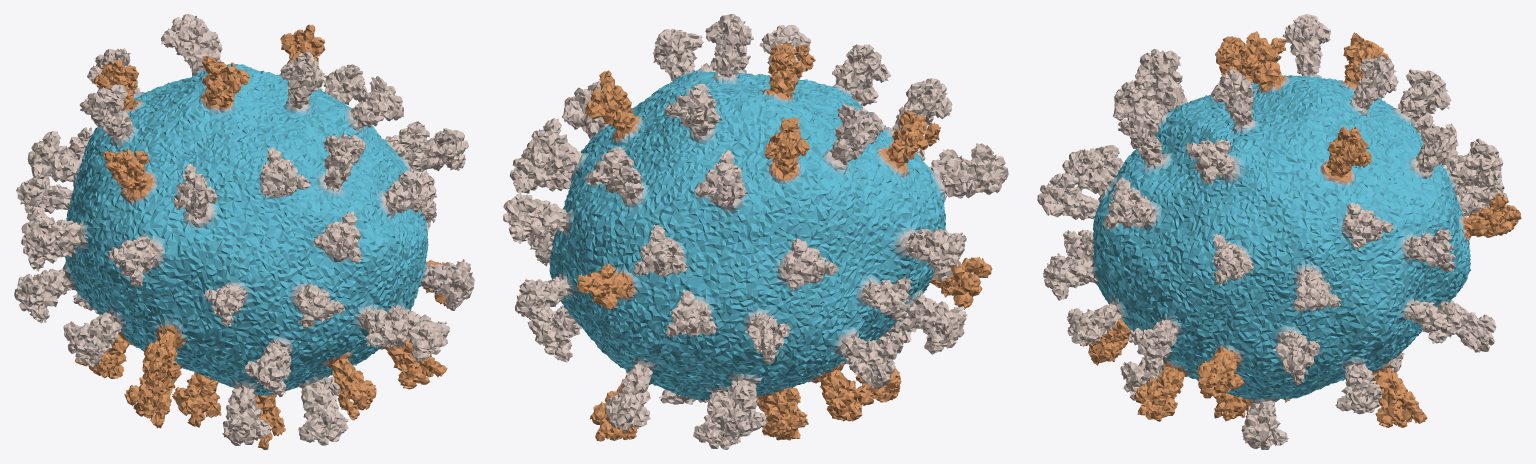
Rendered from sars-cov-2-virion.glb.
The picture shows the model from 3 angles, left to right: view 1: azimuth 30°, elevation 25°; view 2: azimuth 150°, elevation 25°; view 3: azimuth 270°, elevation 25°; orthographic projection. The views are drawn at different scales.
Bounding box in the file's own units: 105 × 90.34 × 107.
